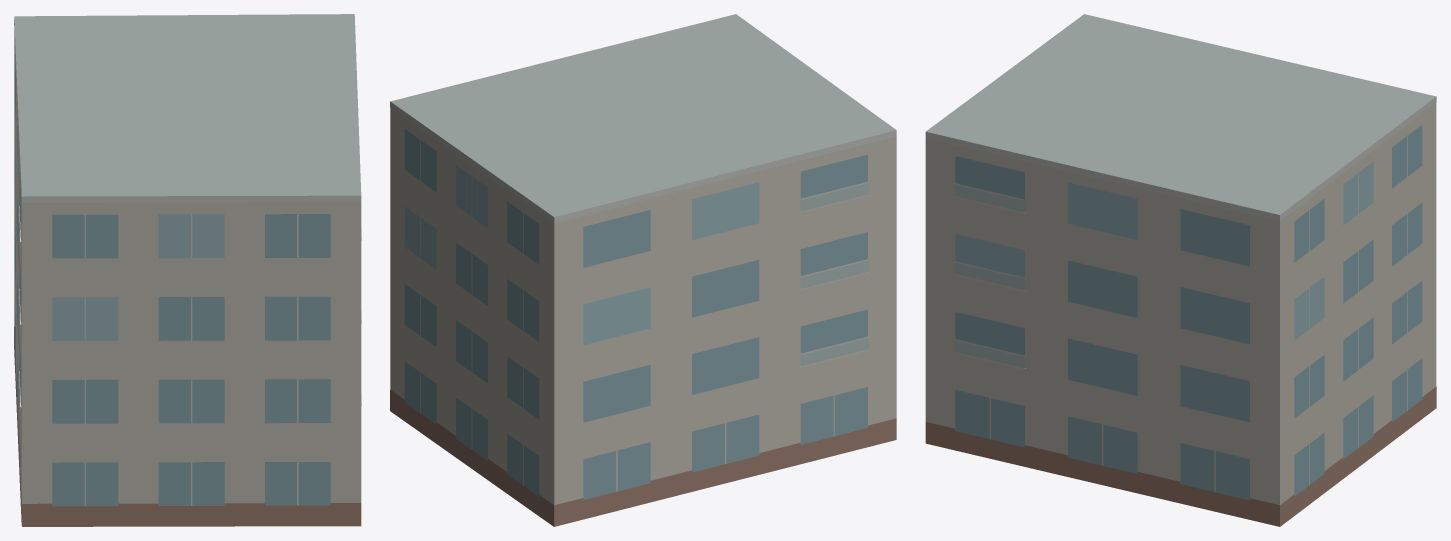
Rendered from survey-upis-32854406.glb.
3 views of the same model, side by side, from view 1: azimuth 30°, elevation 25°; view 2: azimuth 150°, elevation 25°; view 3: azimuth 270°, elevation 25° (orthographic). The views are drawn at different scales.
Parts seen in each view (by area): view 1: survey-upis-32854406.tmp; view 2: survey-upis-32854406.tmp; view 3: survey-upis-32854406.tmp.
Part boxes in pixels (x1,y1,x2,y2): survey-upis-32854406.tmp: (14,14,361,526); survey-upis-32854406.tmp: (390,14,896,526); survey-upis-32854406.tmp: (925,14,1436,526).
Size of the model in its own units: 17.02 by 12.3 by 18.27.
